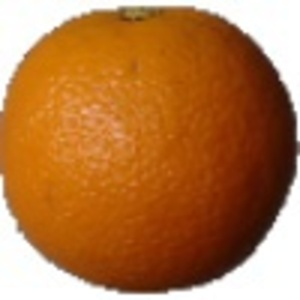laranja: (4, 4, 298, 296)
